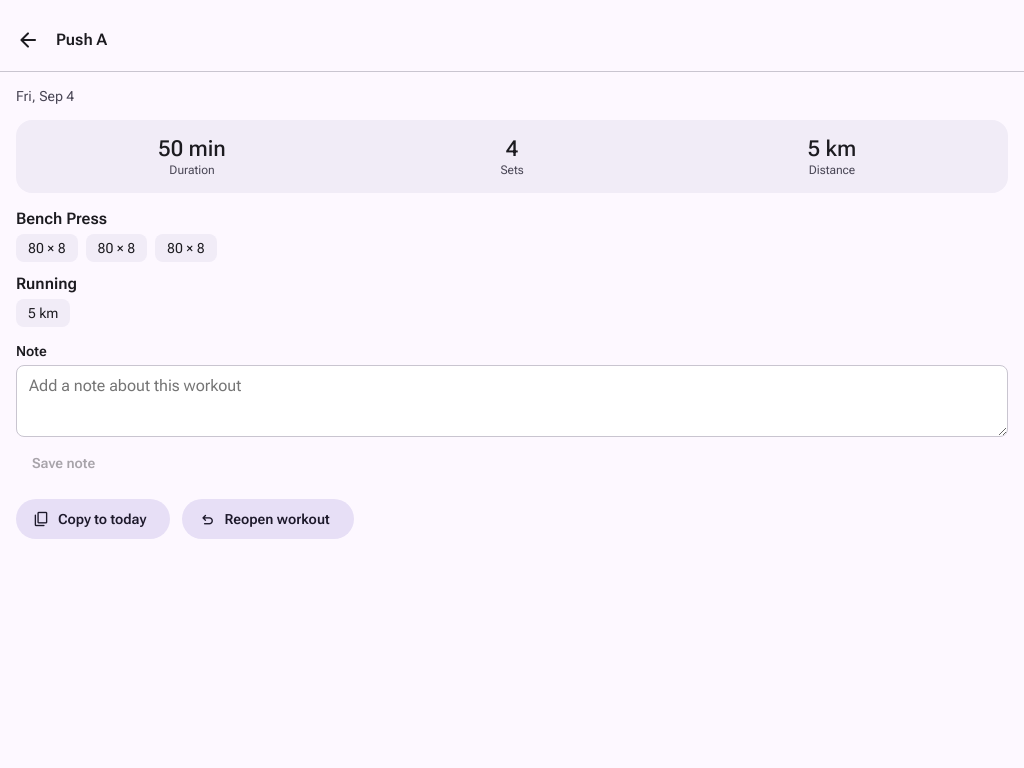
Test: WorkoutDetailScreen › surfaces an error banner instead of copying when another workout is already open
The width and height of the screenshot is (1024, 768).
Click the text "Copy to today": x=102, y=519 x1=58 y1=509 x2=146 y2=529
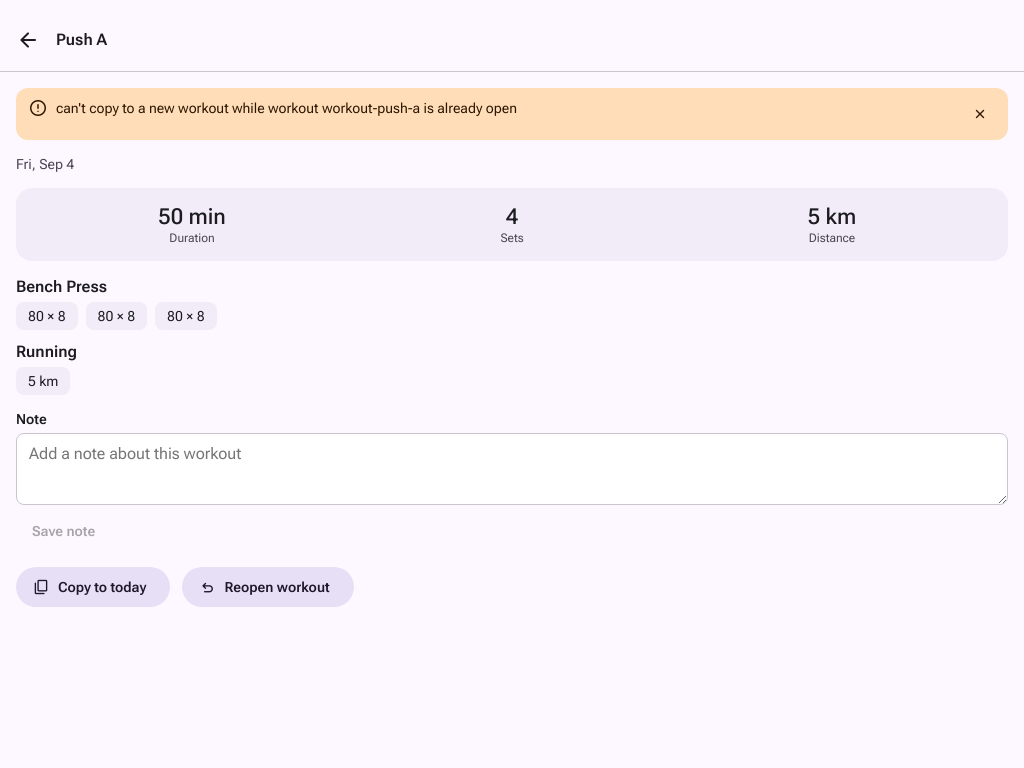
expect the text "already open" is shown: met, box x1=56 y1=100 x2=517 y2=116
